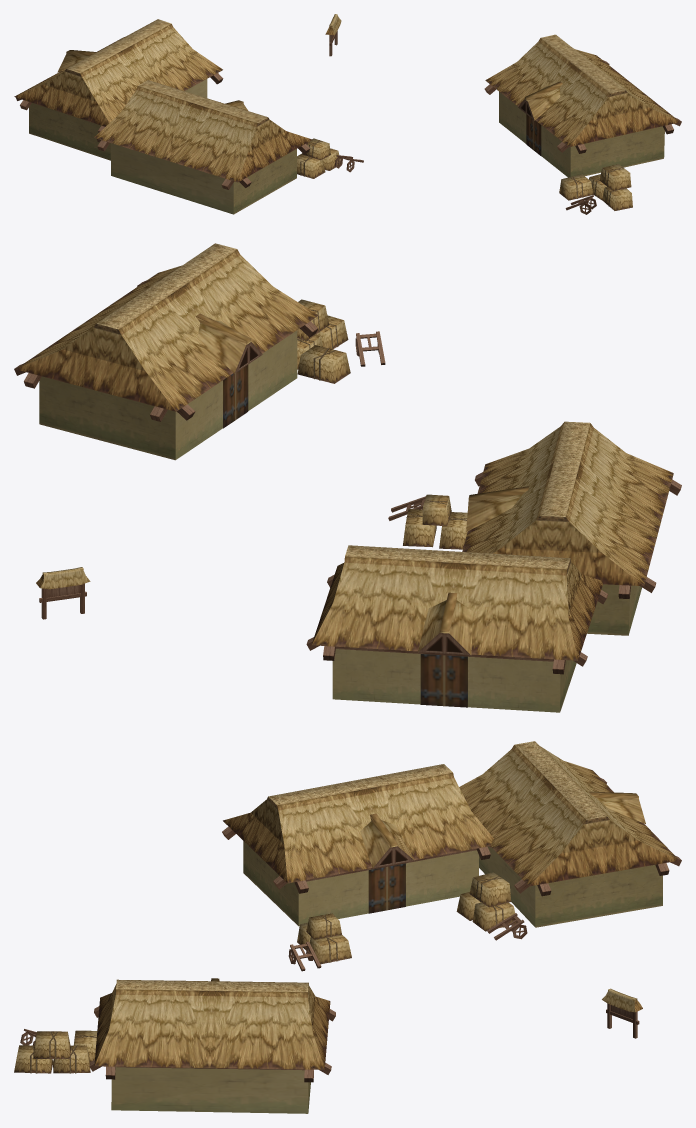
File: Area_11_27.fbx
3 views of the same model, one above another, from view 1: azimuth 30°, elevation 25°; view 2: azimuth 150°, elevation 25°; view 3: azimuth 270°, elevation 25° (orthographic). The views are drawn at different scales.
Parts seen in each view (by area): view 1: Area_11_27; view 2: Area_11_27; view 3: Area_11_27.
Boxes of the visible parts, box(x1,y1,x2,y2) form: Area_11_27: box(14, 14, 681, 214); Area_11_27: box(14, 243, 681, 712); Area_11_27: box(14, 741, 681, 1113).
Bounding box in the file's own units: 4817 × 777 × 4474.
